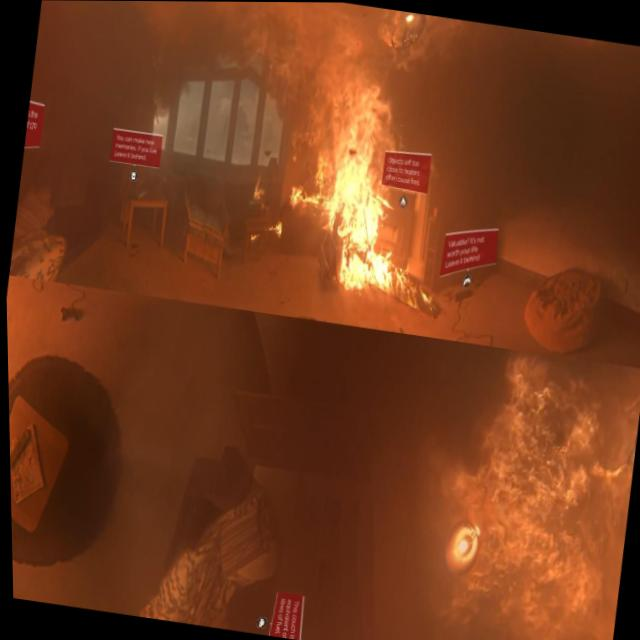fire: (456, 354, 640, 640), (275, 86, 451, 313), (251, 175, 269, 207), (267, 216, 285, 240), (250, 231, 260, 243)
